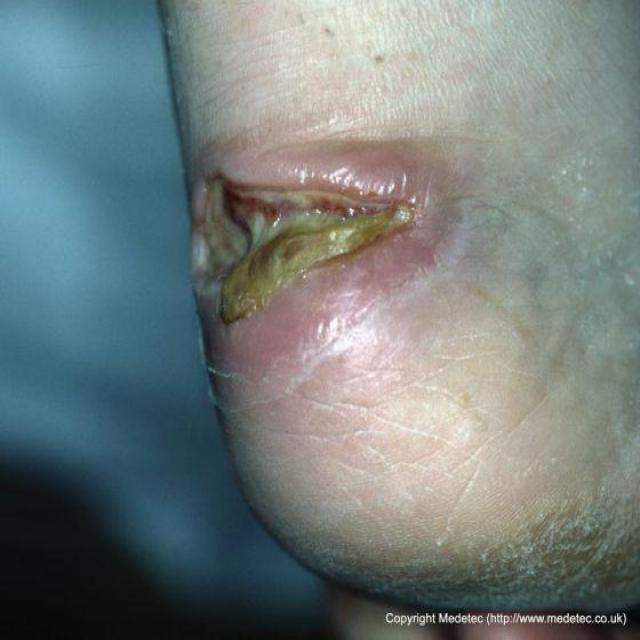Unstageable: (192, 175, 415, 324)
